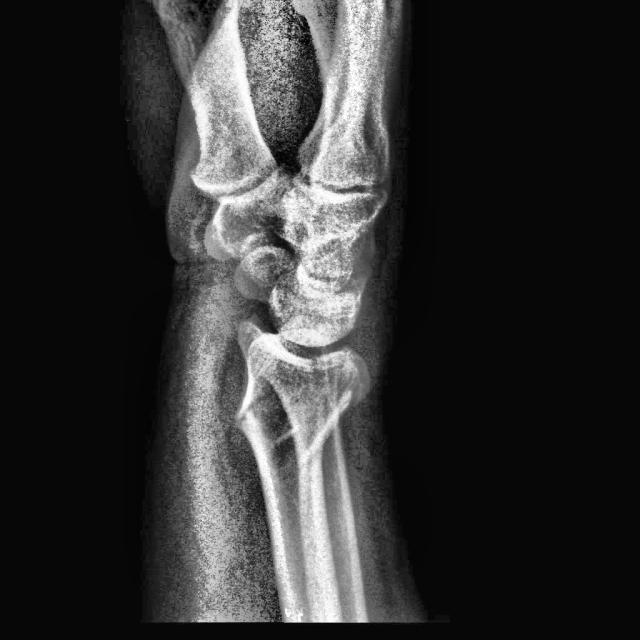line: (239, 389, 275, 428)
